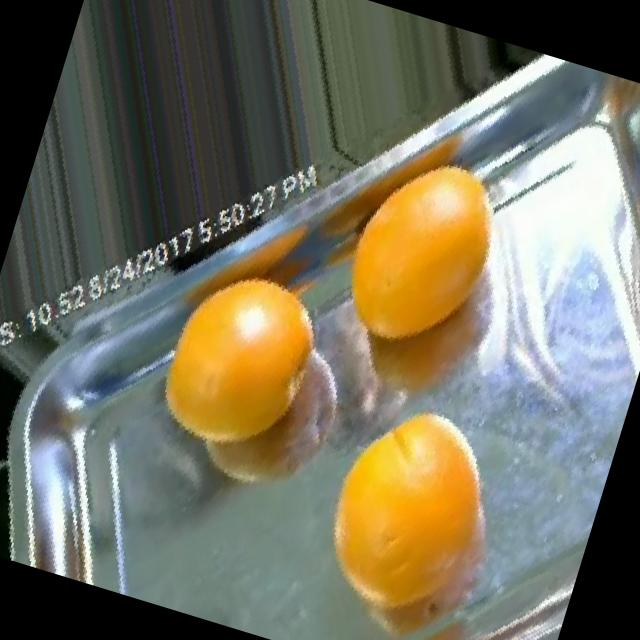Fruit: (107, 288, 371, 534)
